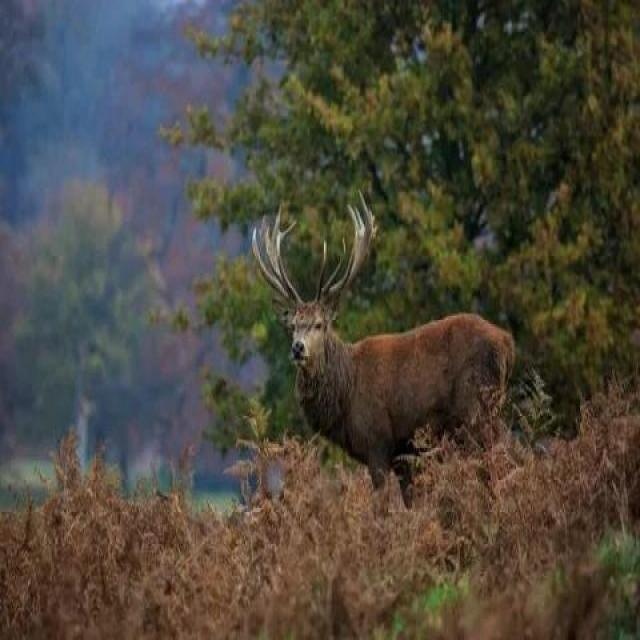deer: (266, 221, 570, 542)
